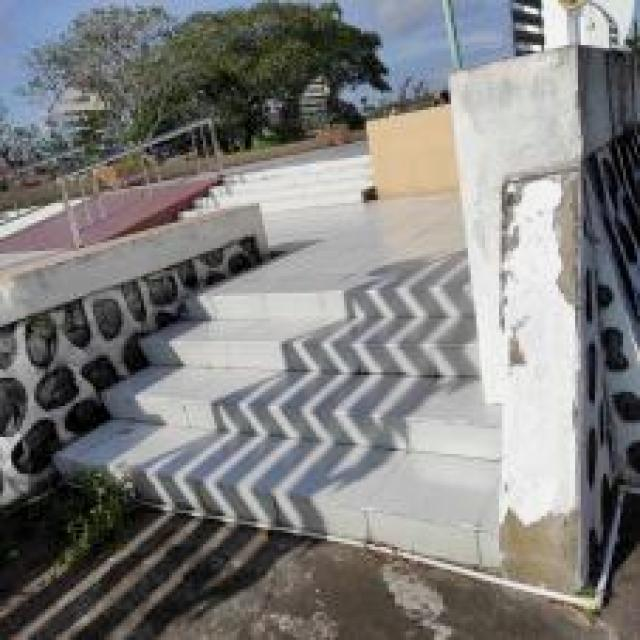upstair: (111, 286, 551, 568)
